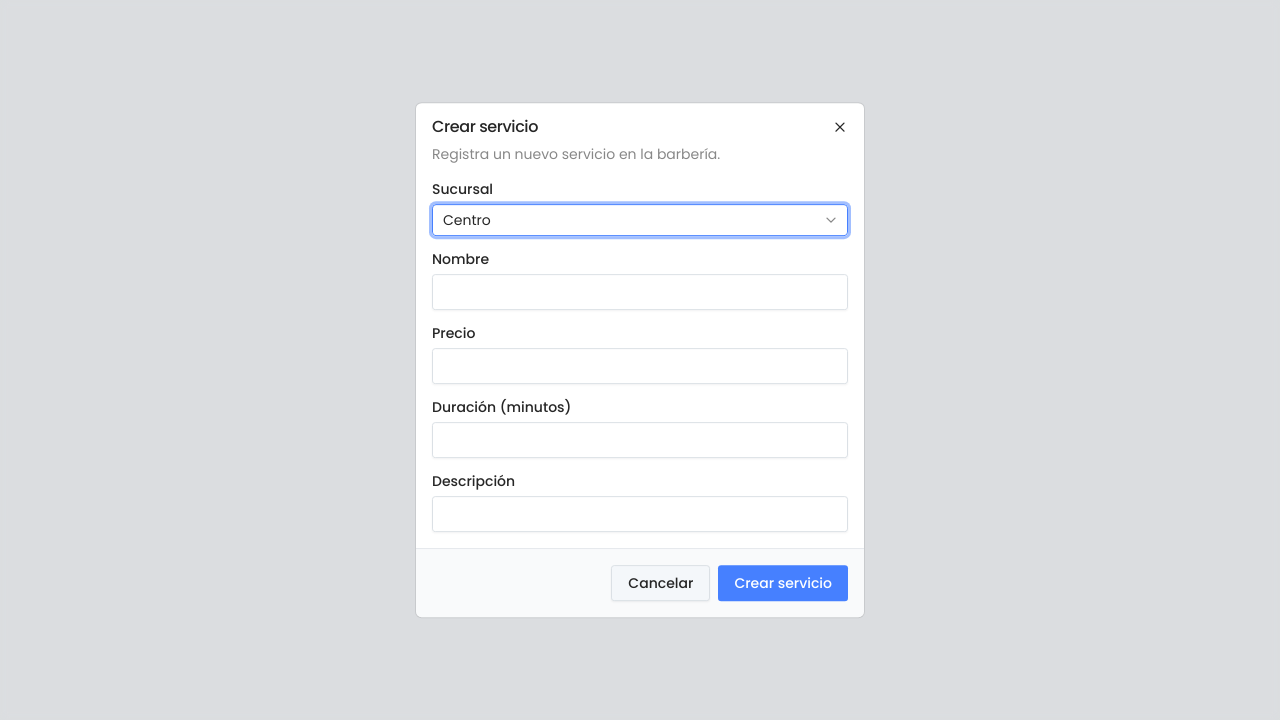
Scenario: ServiceFormDialog › muestra toast de error cuando la creación falla
The width and height of the screenshot is (1280, 720).
Step 1. Type "Corte" into the field labelled "Nombre" → (640, 292), box [432,274,848,310]
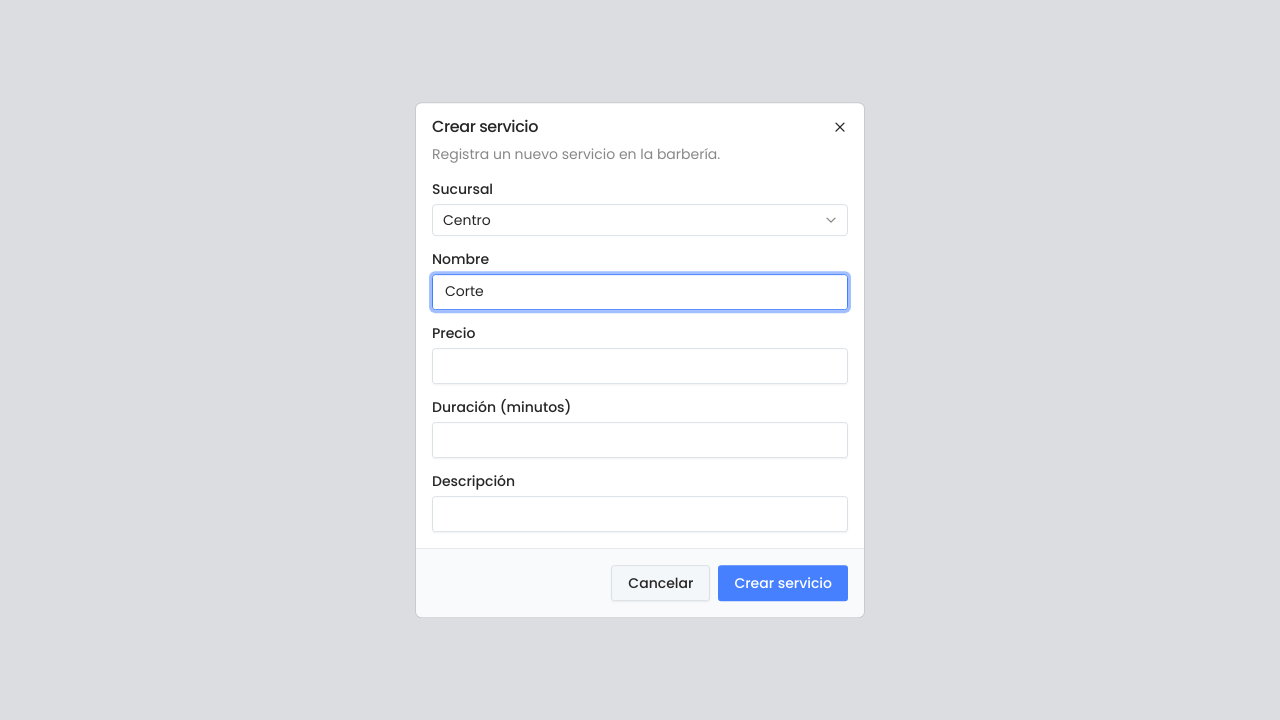
Step 2. Type "25" into the number field labelled "Precio" → (640, 366), box [432,348,848,384]
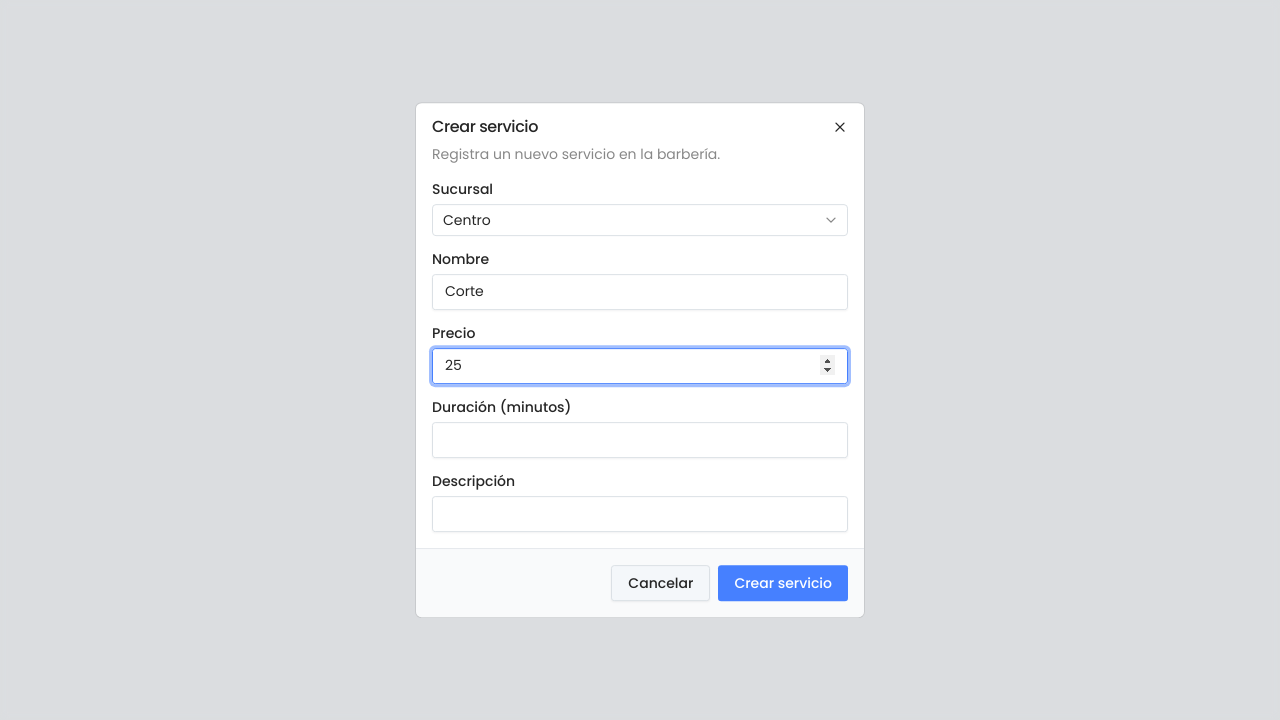
Step 3. Type "30" into the number field labelled "Duración (minutos)" → (640, 440), box [432,422,848,458]
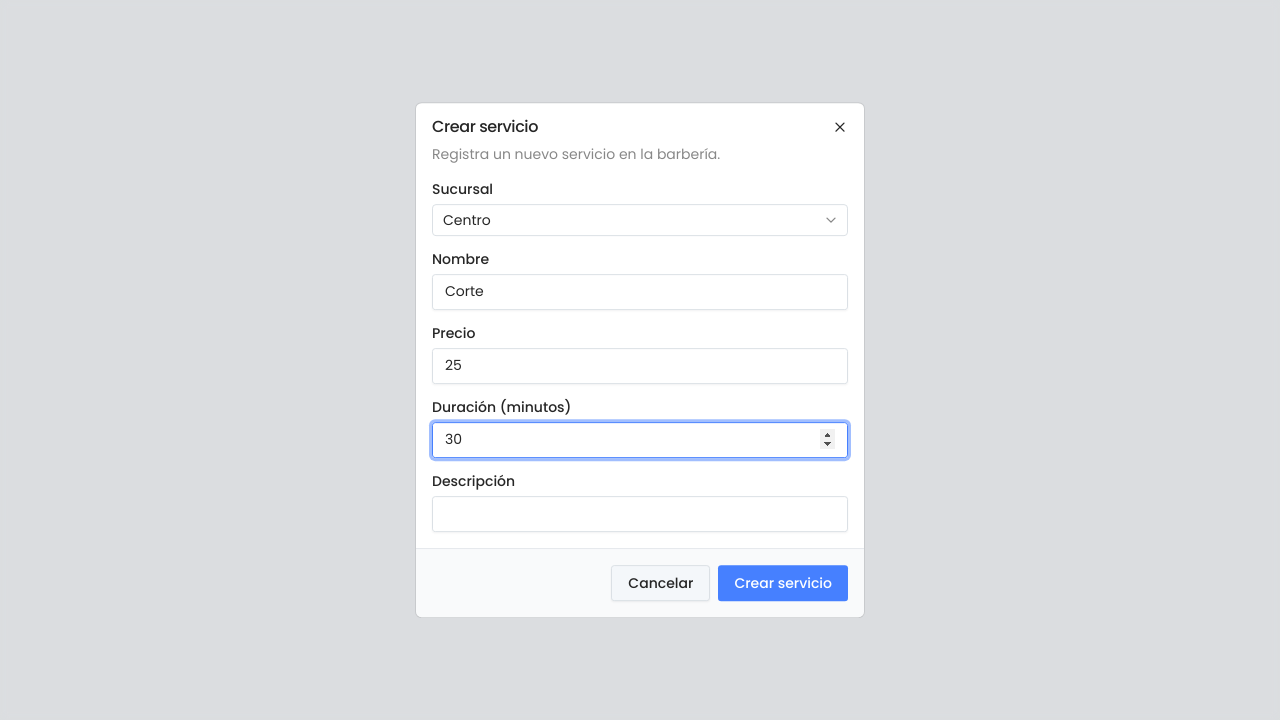
Step 4. Click the button "Crear servicio" → (783, 583), box [718,565,848,601]
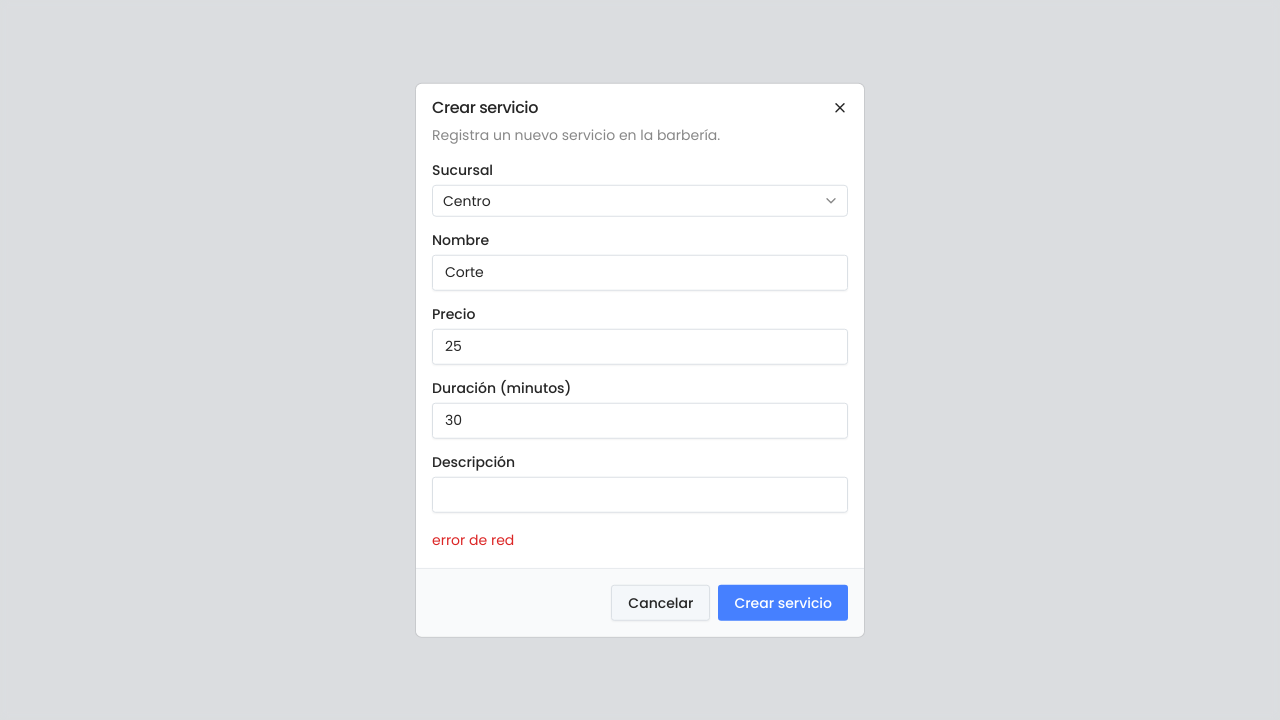
Check: the text "error de red" is shown, box [432,530,514,550]
